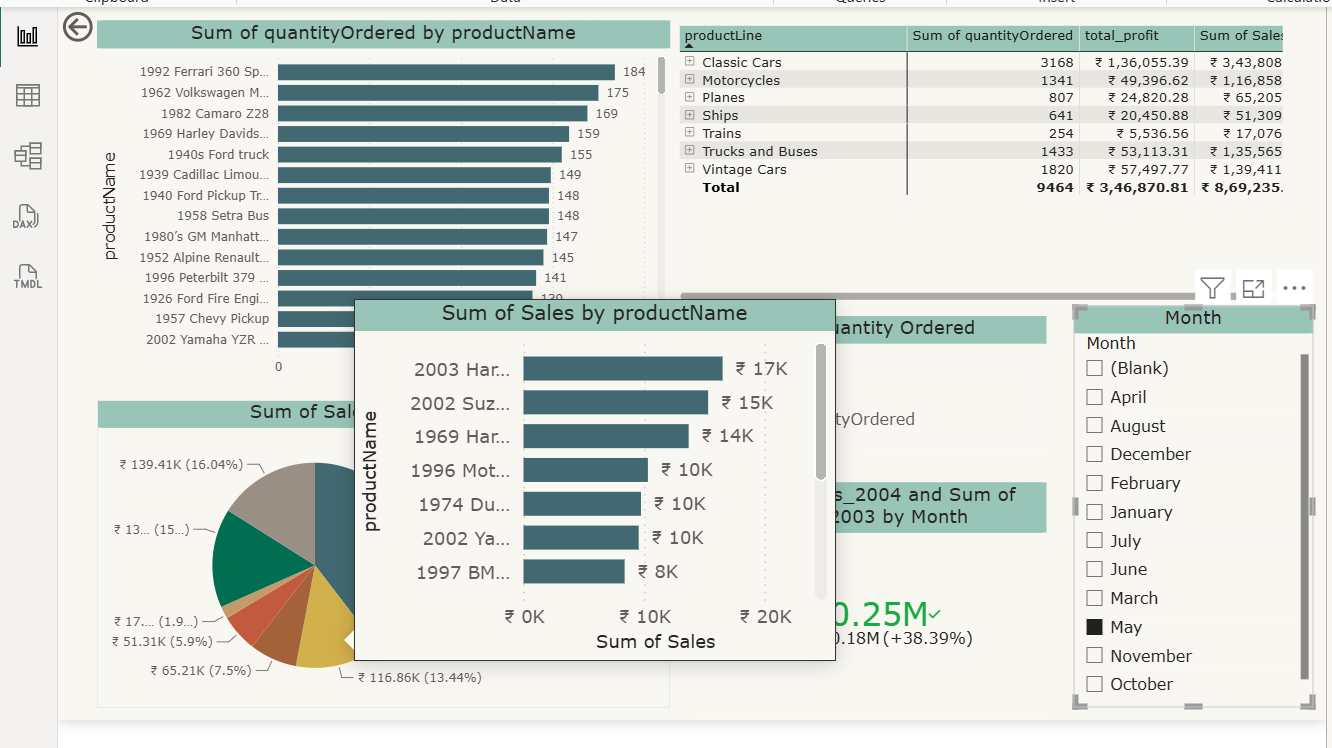

This screenshot's page, from the dashboard's own definition file:
{"tool":"powerbi","page":{"name":"Page 1","canvas":[1280,720],"ordinal":0},"visuals":[{"type":"barChart","fields":{"Category":["Products.productName"],"Y":["Sum(Order_details.quantityOrdered)"]},"box":[39.4,13.6,578.4,383.1],"z":0},{"type":"actionButton","box":[0,0,100,40],"z":2},{"type":"pieChart","fields":{"Y":["Sum(Order_details.Sales)"],"Series":["Products.productLine"]},"box":[39.4,396.7,578.4,310.4],"z":3},{"type":"pivotTable","fields":{"Rows":["Products.productLine","Products.productName"],"Values":["Sum(Order_details.quantityOrdered)","Order_details.total_profit","Sum(Order_details.Sales)"]},"box":[622.3,13.6,619.3,287.7],"z":4},{"type":"slicer","title":"Month","fields":{"Values":["Orders.Month"]},"box":[1025.1,301.3,242.3,405.8],"z":6},{"type":"cardVisual","title":"Total Quantity Ordered","fields":{"Data":["Sum(Order_details.quantityOrdered)"]},"box":[640.5,311.9,357.4,137.8],"z":7},{"type":"kpi","fields":{"Goal":["Sum(Orders.sales_2003)"],"TrendLine":["Orders.Month"],"Indicator":["Sum(Orders.sales_2004)"]},"box":[640.5,480,357.4,239.2],"z":8}]}

Visuals, with their boxes on the page's 1280x720 design canvas (x1, y1, x2, y2). These are canvas units, not pixel positions in the 1332x748 screenshot, which may show the page scaled, cropped or inside an application window:
barChart - Products.productName x Sum(Order_details.quantityOrdered): [left=39, top=14, right=618, bottom=397]
actionButton: [left=0, top=0, right=100, bottom=40]
pieChart - Sum(Order_details.Sales) x Products.productLine: [left=39, top=397, right=618, bottom=707]
pivotTable - Products.productLine x Products.productName: [left=622, top=14, right=1242, bottom=301]
"Month" slicer: [left=1025, top=301, right=1267, bottom=707]
"Total Quantity Ordered" cardVisual: [left=640, top=312, right=998, bottom=450]
kpi - Sum(Orders.sales_2003) x Orders.Month: [left=640, top=480, right=998, bottom=719]
